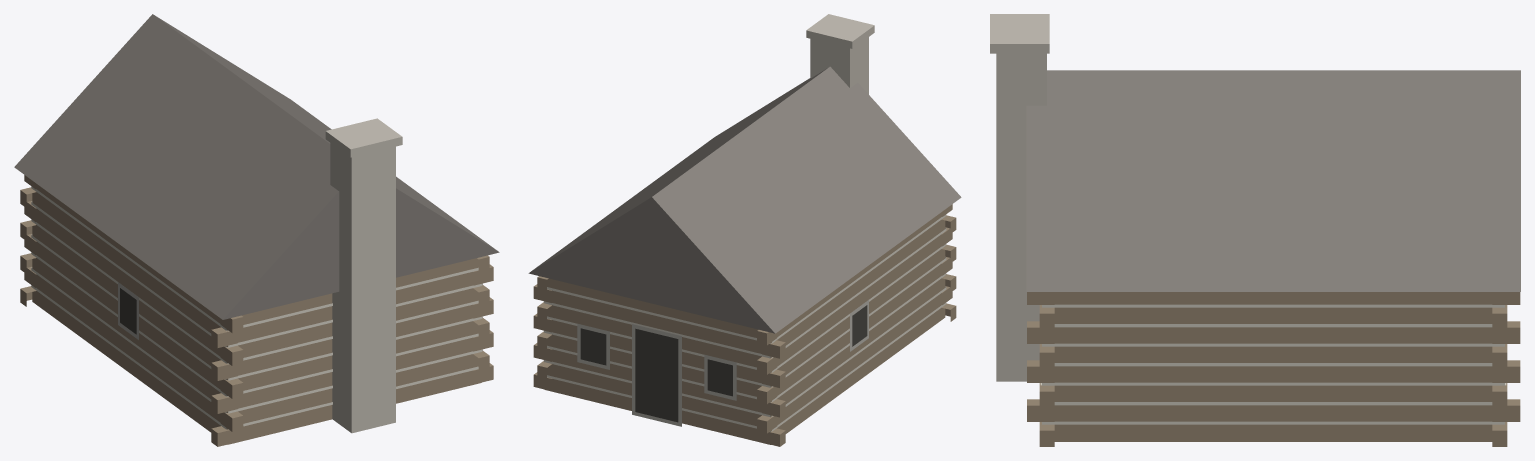
The model's file is recon_1835_west_038__inferred_1835.glb.
The picture shows the model from 3 angles, left to right: view 1: azimuth 30°, elevation 25°; view 2: azimuth 150°, elevation 25°; view 3: azimuth 270°, elevation 25°; orthographic projection. The views are drawn at different scales.
Parts seen in each view (by area): view 1: recon_1835_west_038__inferred_1835; view 2: recon_1835_west_038__inferred_1835; view 3: recon_1835_west_038__inferred_1835.
Boxes of the visible parts, x1,y1,x2,y2 form: recon_1835_west_038__inferred_1835: [14, 14, 499, 446]; recon_1835_west_038__inferred_1835: [528, 14, 961, 446]; recon_1835_west_038__inferred_1835: [990, 14, 1520, 446].
Bounding box in the file's own units: 5.99 × 5.99 × 8.39.
